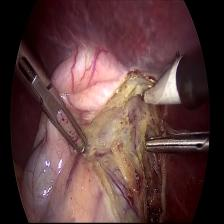Grasper: (17, 40, 95, 168), (135, 124, 207, 166)
Hook: (136, 44, 185, 115)
